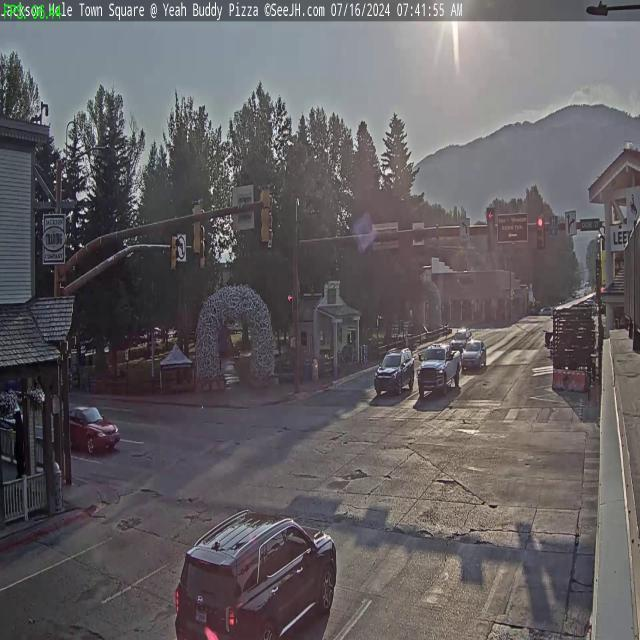person: (418, 342, 462, 400)
pickup: (61, 404, 121, 456), (462, 338, 487, 368)
sedan: (173, 503, 340, 640), (372, 346, 414, 398), (452, 328, 472, 353)
suv: (260, 184, 274, 249), (190, 201, 205, 255), (486, 205, 496, 258), (171, 235, 180, 273), (537, 216, 546, 249), (200, 240, 208, 272)
